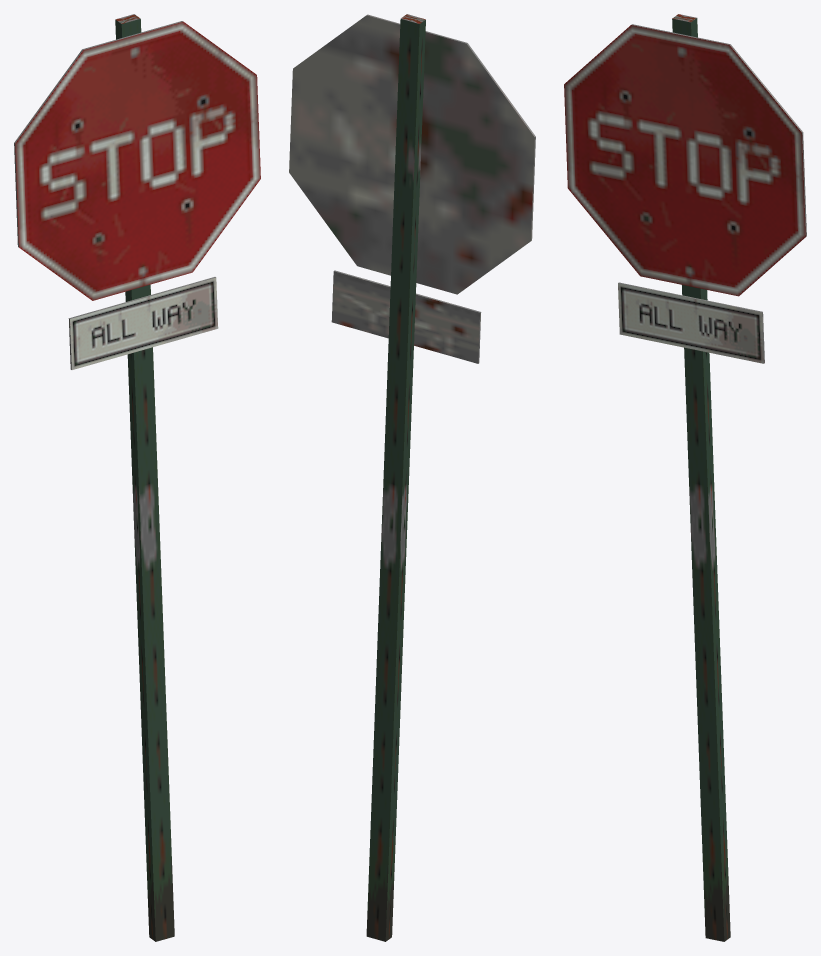
Rendered from sign_road.obj.
3 views of the same model, side by side, from view 1: azimuth 30°, elevation 25°; view 2: azimuth 150°, elevation 25°; view 3: azimuth 330°, elevation 25° (orthographic).
Visible parts, largest first — view 1: sign_road; view 2: sign_road; view 3: sign_road.
Boxes of the visible parts, left/top/right/bottom form: sign_road: left=14, top=14, right=260, bottom=941; sign_road: left=289, top=14, right=535, bottom=941; sign_road: left=564, top=14, right=806, bottom=941.
Bounding box in the file's own units: 0.7715 × 2.78 × 0.044.
1 material, 1 textured.
